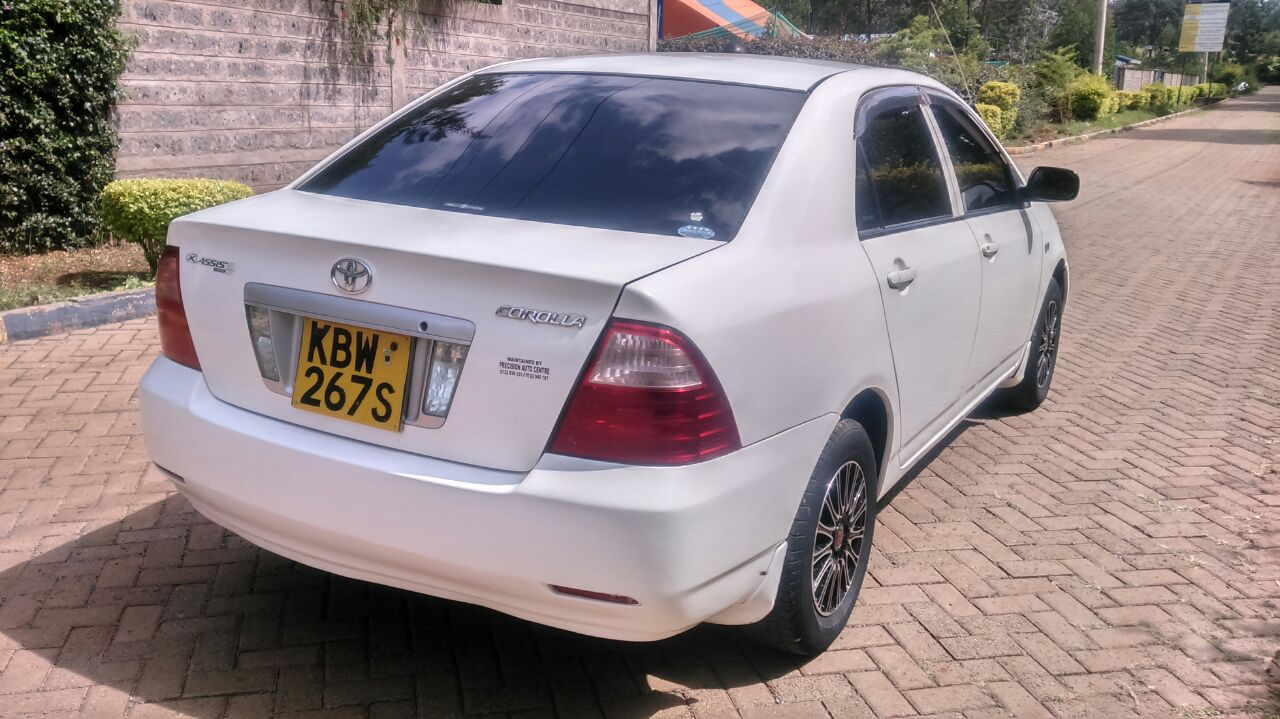licencePlate: (281, 314, 422, 445)
